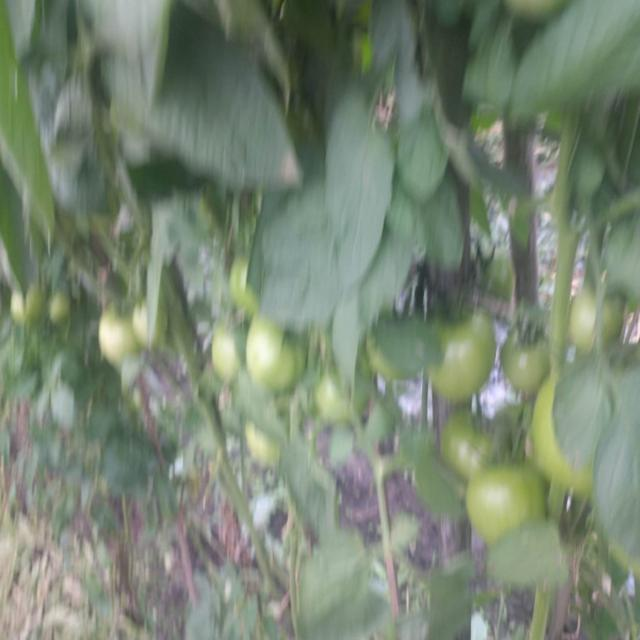tomato: (526, 370, 598, 492), (430, 312, 503, 401), (466, 462, 544, 535), (242, 320, 313, 389), (570, 283, 627, 352), (438, 413, 508, 467), (502, 326, 548, 393), (314, 369, 367, 424), (213, 322, 247, 381), (102, 305, 140, 356), (227, 250, 254, 319), (241, 416, 278, 464), (135, 299, 171, 344), (367, 331, 398, 381), (11, 289, 41, 320), (51, 291, 74, 324)
